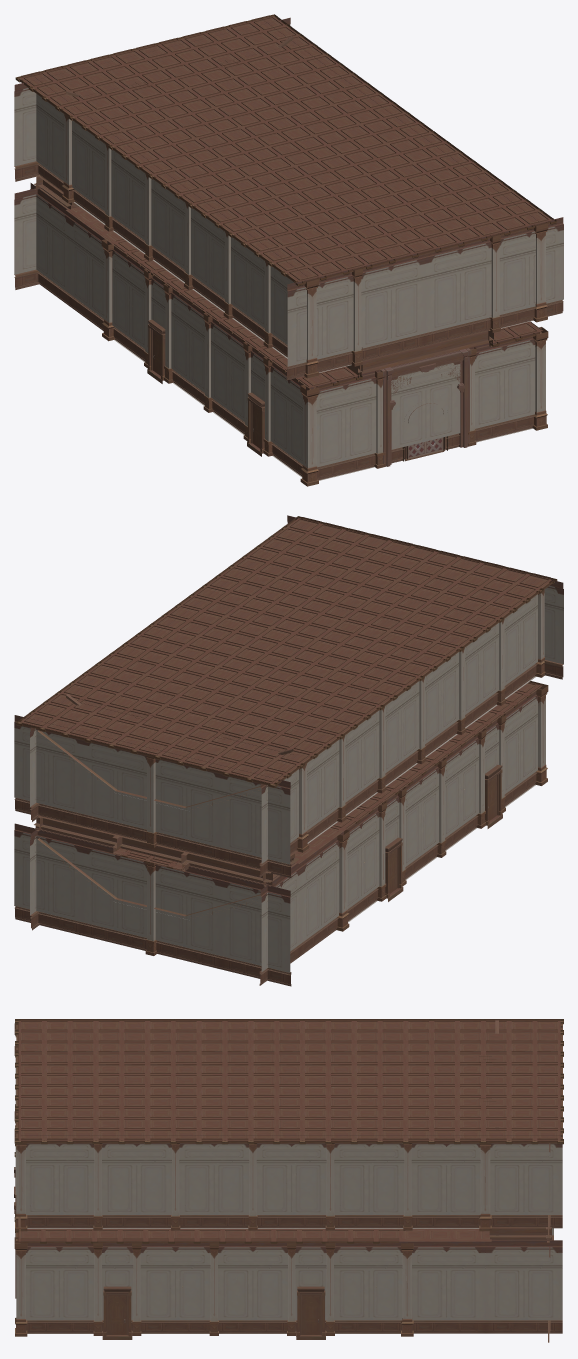
The picture shows the model from 3 angles, top to bottom: view 1: azimuth 30°, elevation 25°; view 2: azimuth 150°, elevation 25°; view 3: azimuth 270°, elevation 25°; orthographic projection. The views are drawn at different scales.
Parts seen in each view (by area): view 1: U_Char; view 2: U_Char; view 3: U_Char.
Boxes of the visible parts, x1,y1,x2,y2 form: U_Char: (14, 14, 563, 486); U_Char: (14, 515, 563, 986); U_Char: (14, 1019, 563, 1342).
Size of the model in its own units: 24 by 18.01 by 42.61.
